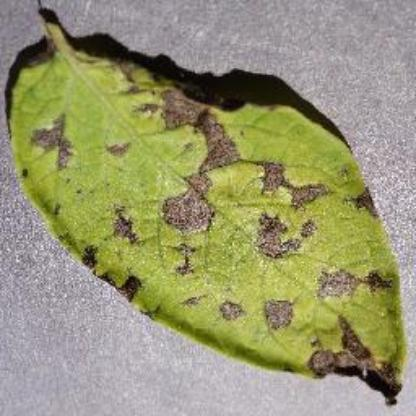Early-Blight: (6, 5, 416, 408)
